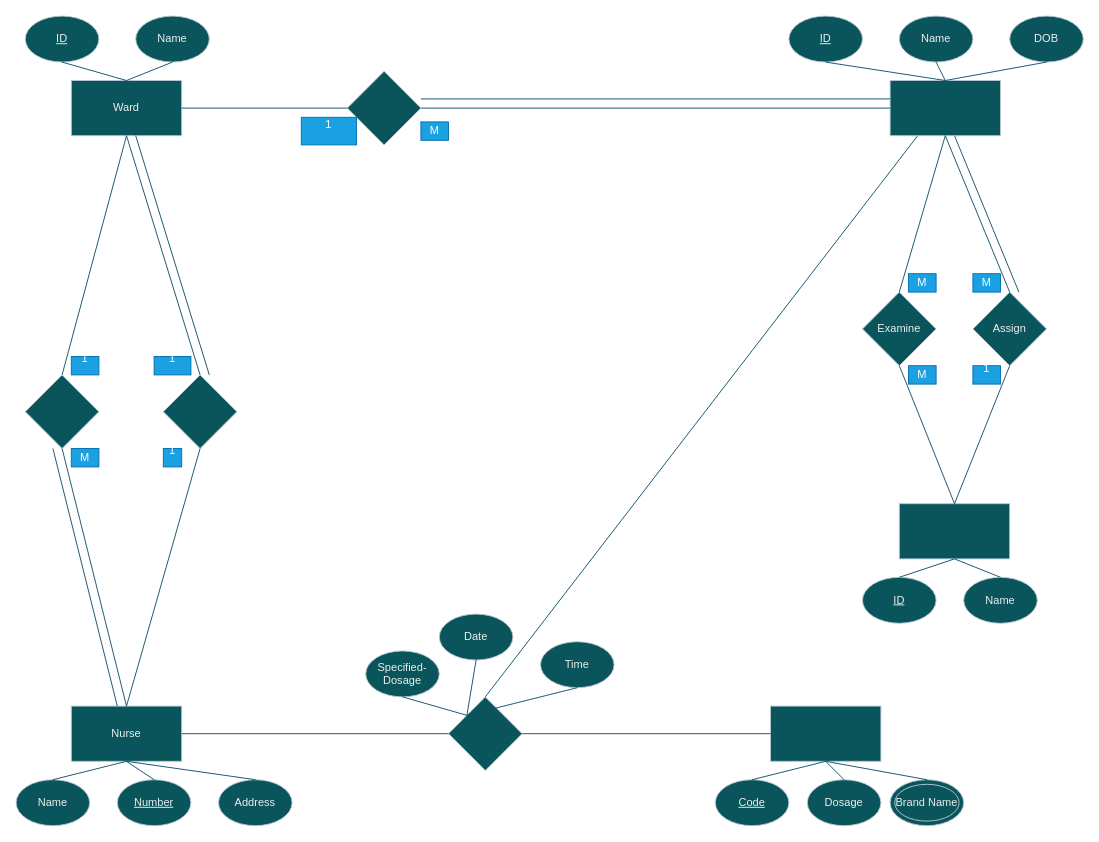
This 1099x842 diagram has some shape labels left out. The shapes that lost their labels are listed below. From the top down, each one's centre as x and y in pixels, then its label:
point 383,107: Host
point 944,108: Patient
point 61,411: Serve
point 199,411: Supervise
point 954,531: Consultant
point 485,733: Give
point 825,733: Drug
